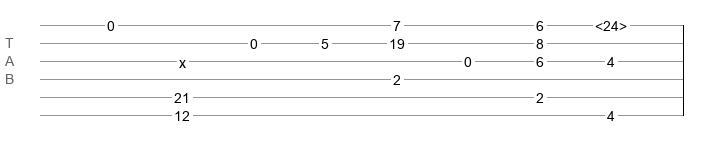0: (107, 18, 115, 28), (250, 36, 258, 46), (464, 54, 472, 64)
12: (174, 108, 190, 118)
19: (389, 36, 405, 46)
2: (393, 72, 401, 82), (536, 90, 544, 100)
21: (174, 90, 190, 100)
4: (607, 108, 615, 118), (607, 54, 615, 64)
5: (321, 36, 329, 46)
6: (536, 54, 544, 64), (536, 18, 544, 28)
7: (393, 18, 401, 28)
8: (536, 36, 544, 46)
harmonic: (595, 18, 627, 28)
x: (179, 55, 186, 63)
